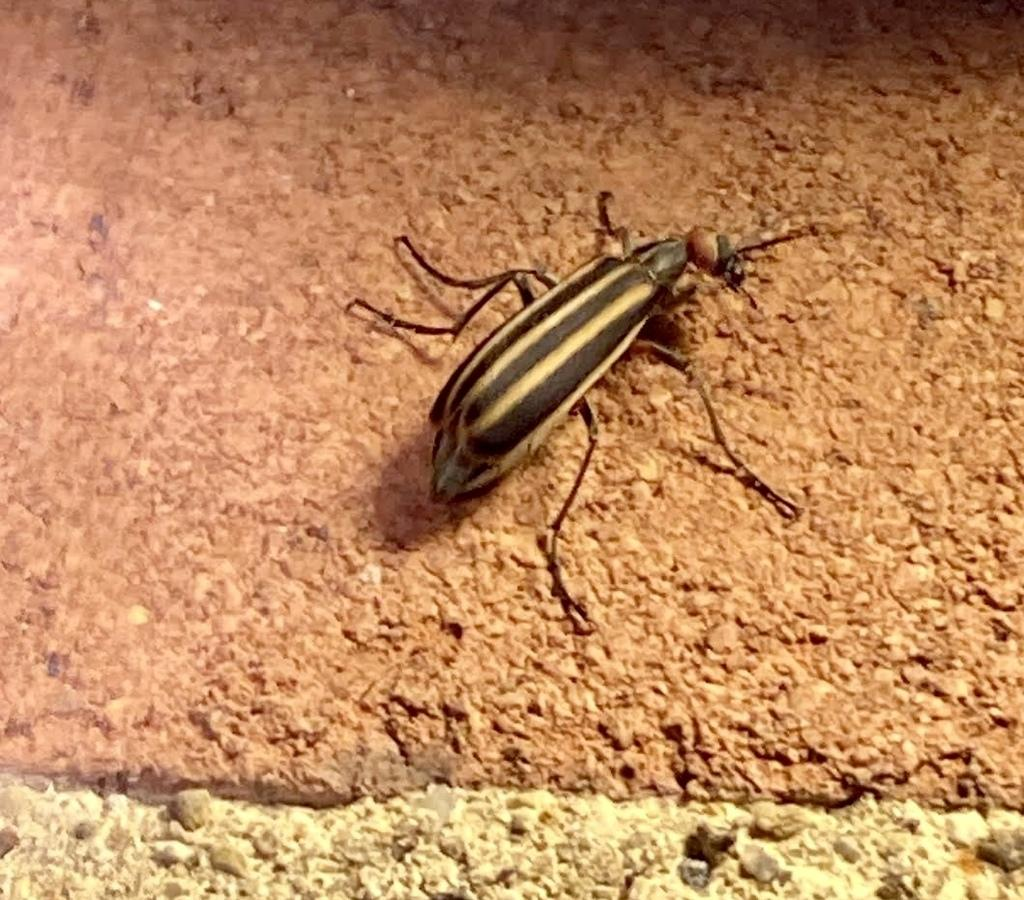blister_beetle: (322, 108, 890, 643)
